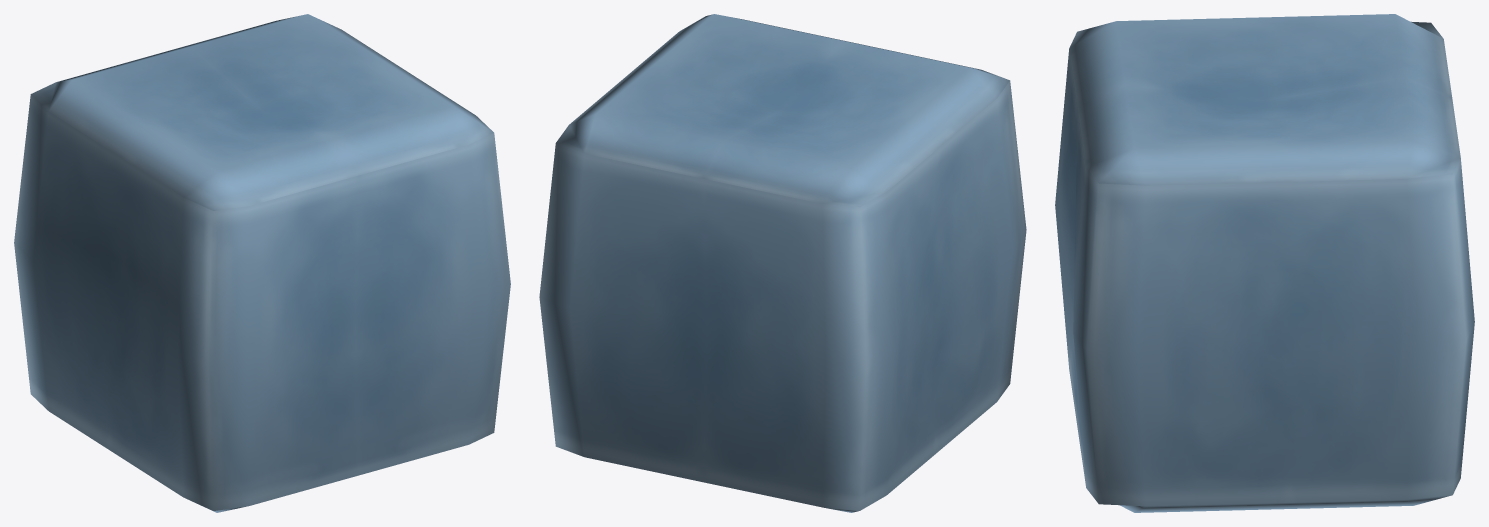
Rendered from IceCube_Scaled.fbx.
3 views of the same model, side by side, from view 1: azimuth 30°, elevation 25°; view 2: azimuth 150°, elevation 25°; view 3: azimuth 270°, elevation 25° (orthographic). The views are drawn at different scales.
Visible parts, largest first — view 1: Icecube2; view 2: Icecube2; view 3: Icecube2.
Part boxes in pixels (x1,y1,x2,y2): Icecube2: (14, 14, 510, 512); Icecube2: (539, 14, 1026, 512); Icecube2: (1055, 14, 1474, 512).
Bounding box in the file's own units: 2.43 × 2.34 × 2.44.
